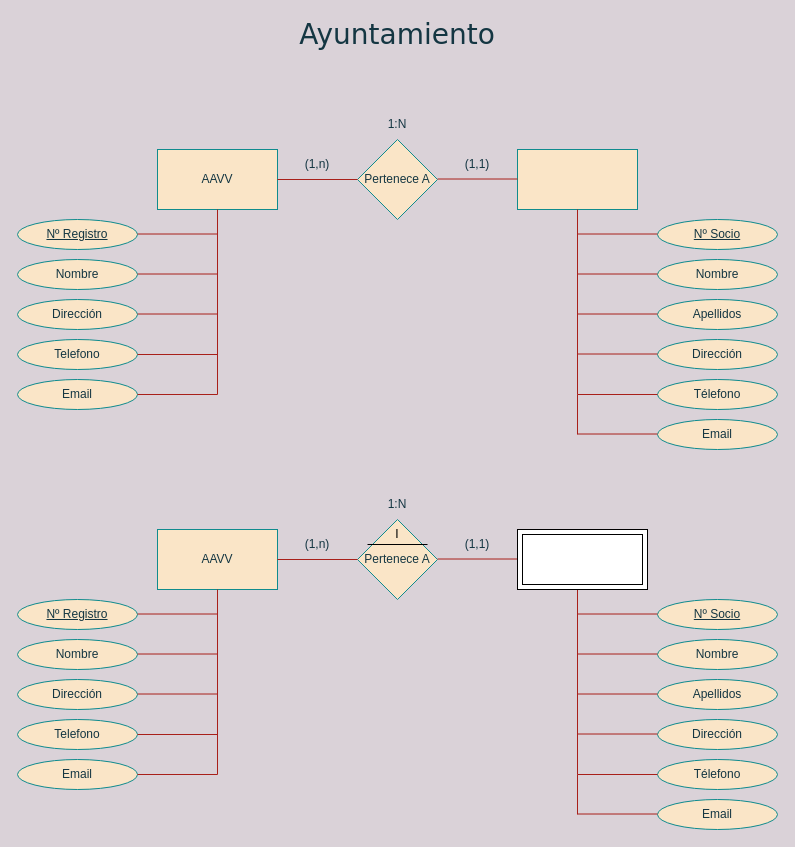
This 795x847 diagram has some shape labels left out. The shapes that lost their labels are listed below. From the top down, each one's centre as x and y in pixels, then its label:
At (x=577, y=179): "Miembros".
At (x=582, y=559): "Mienbros".
